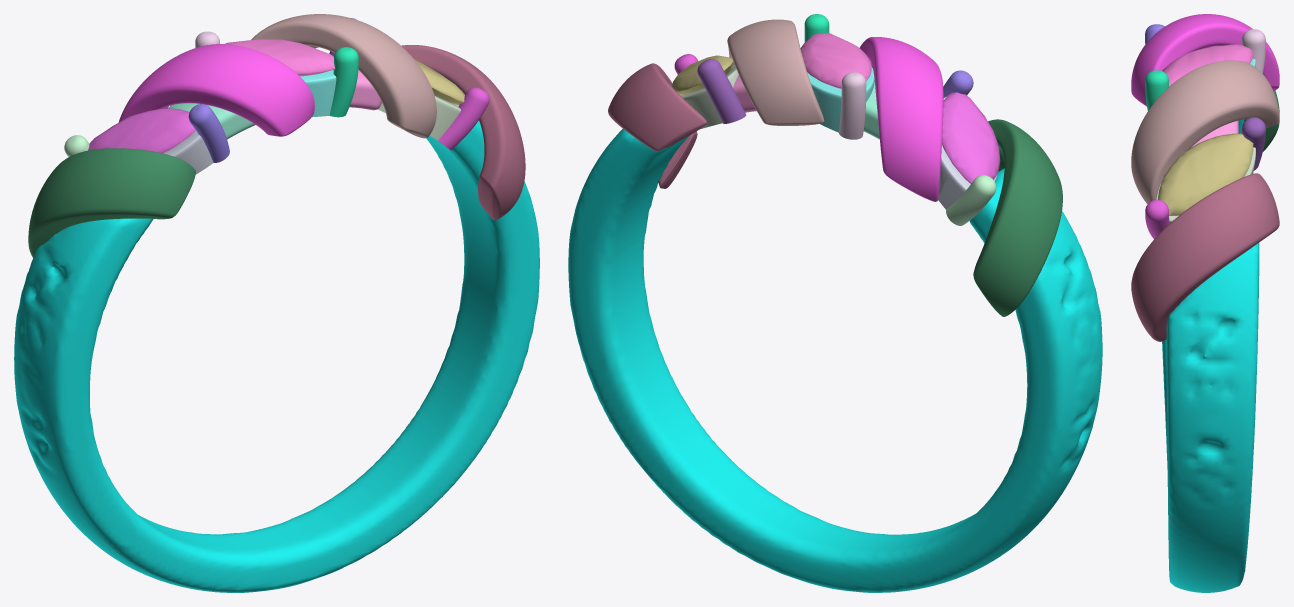
3 renders of one model, left to right at view 1: azimuth 30°, elevation 25°; view 2: azimuth 150°, elevation 25°; view 3: azimuth 270°, elevation 25°, orthographic. The views are drawn at different scales.
Visible parts, largest first — view 1: Object_2, Object_3.145, Object_3.148, Object_2.032, Object_2.031, Object_3.012, Object_3.016, Object_2.036, Object_2.043, Object_2.038, Object_3.018, split_parent_12 (+4 smaller); view 2: Object_2, Object_3.145, Object_3.148, Object_2.032, Object_2.031, Object_3.012, Object_3.016, Object_2.042, Object_2.035, Object_2.040, Object_3.018, split_parent_12 (+2 smaller); view 3: Object_2, Object_2.031, Object_2.032, Object_3.020, Object_3.148, Object_3.016, Object_2.043, Object_2.042, Object_2.035, Object_2.036, split_parent_1, Object_3.145 (+1 smaller).
Part boxes in pixels (x1,y1,x2,y2): Object_2: (14, 120, 539, 592); Object_3.145: (28, 148, 195, 257); Object_3.148: (118, 44, 314, 136); Object_2.032: (251, 14, 436, 138); Object_2.031: (401, 45, 525, 220); Object_3.012: (88, 108, 195, 153); Object_3.016: (225, 39, 335, 76); Object_2.036: (329, 47, 358, 117); Object_2.043: (438, 87, 489, 150); Object_2.038: (188, 104, 229, 162); Object_3.018: (300, 70, 336, 117); split_parent_12: (163, 130, 213, 174); Object_2: (568, 129, 1102, 592); Object_3.145: (973, 119, 1062, 316); Object_3.148: (860, 37, 943, 201); Object_2.032: (727, 19, 824, 125); Object_2.031: (608, 63, 706, 188); Object_3.012: (942, 92, 1000, 183); Object_3.016: (800, 33, 871, 88); Object_2.042: (697, 59, 746, 123); Object_2.035: (838, 72, 866, 139); Object_2.040: (946, 175, 996, 225); Object_3.018: (807, 67, 874, 132); split_parent_12: (938, 96, 997, 209); Object_2: (1162, 119, 1259, 592); Object_2.031: (1131, 173, 1279, 341); Object_2.032: (1131, 60, 1279, 203); Object_3.020: (1158, 133, 1253, 215); Object_3.148: (1131, 14, 1279, 106); Object_3.016: (1162, 44, 1253, 86); Object_2.043: (1145, 199, 1169, 239); Object_2.042: (1242, 117, 1265, 170); Object_2.035: (1242, 29, 1265, 73); Object_2.036: (1145, 70, 1168, 110); split_parent_1: (1191, 120, 1238, 147); Object_3.145: (1244, 90, 1279, 151).
Size of the model in its own units: 0.9682 by 1 by 0.2577.
